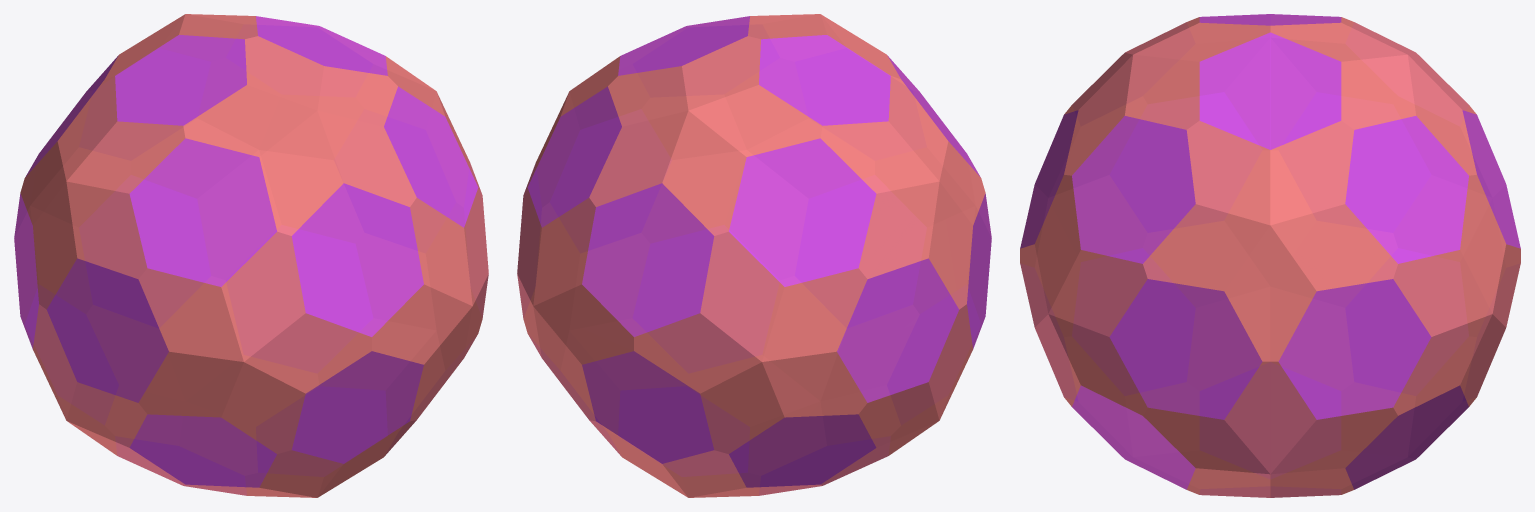
The model's file is TruncatedPentakisDodecahedron3.obj.
3 renders of one model, left to right at view 1: azimuth 30°, elevation 25°; view 2: azimuth 150°, elevation 25°; view 3: azimuth 270°, elevation 25°, orthographic. The views are drawn at different scales.
Size of the model in its own units: 6.11 by 6.11 by 6.11.
